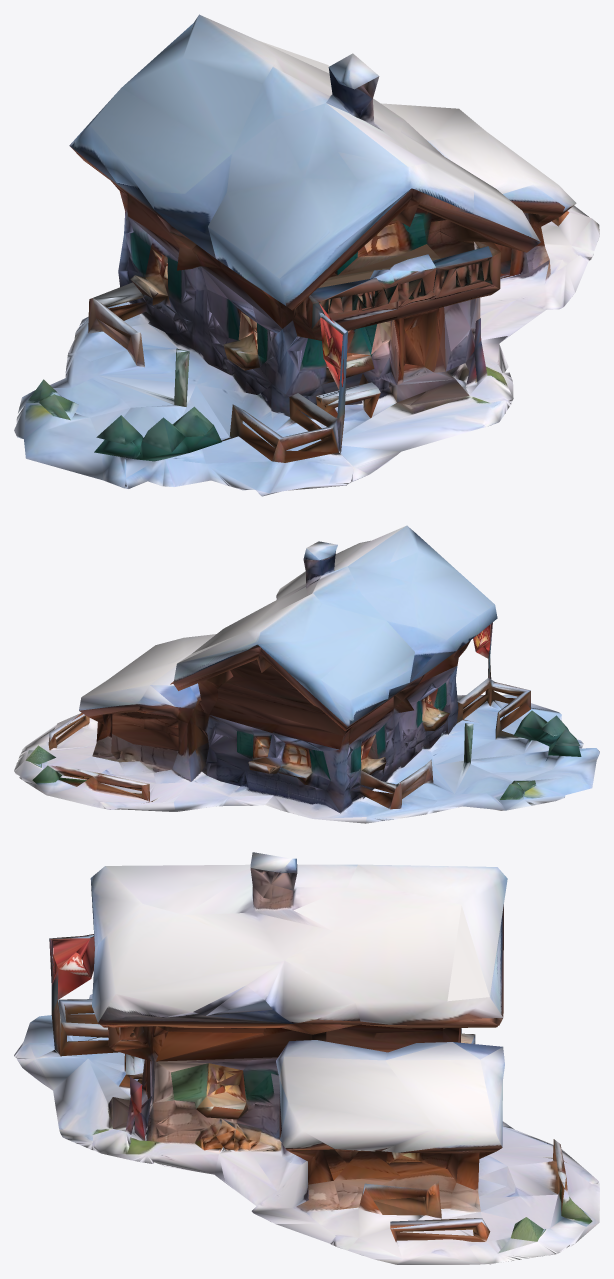
The model's file is chalet-alps-lp.glb.
3 renders of one model, top to bottom at view 1: azimuth 30°, elevation 25°; view 2: azimuth 150°, elevation 25°; view 3: azimuth 270°, elevation 25°, orthographic. The views are drawn at different scales.
Parts seen in each view (by area): view 1: tripo_node_39c5c5cb-f712-49cd-851e-b6d433bd5fd2; view 2: tripo_node_39c5c5cb-f712-49cd-851e-b6d433bd5fd2; view 3: tripo_node_39c5c5cb-f712-49cd-851e-b6d433bd5fd2.
Part boxes in pixels (x1=…): tripo_node_39c5c5cb-f712-49cd-851e-b6d433bd5fd2: x1=14, y1=14, x2=599, y2=496; tripo_node_39c5c5cb-f712-49cd-851e-b6d433bd5fd2: x1=14, y1=525, x2=599, y2=823; tripo_node_39c5c5cb-f712-49cd-851e-b6d433bd5fd2: x1=14, y1=852, x2=599, y2=1264.
Bounding box in the file's own units: 0.978 × 0.3996 × 0.7883.
1 material, 1 textured.
